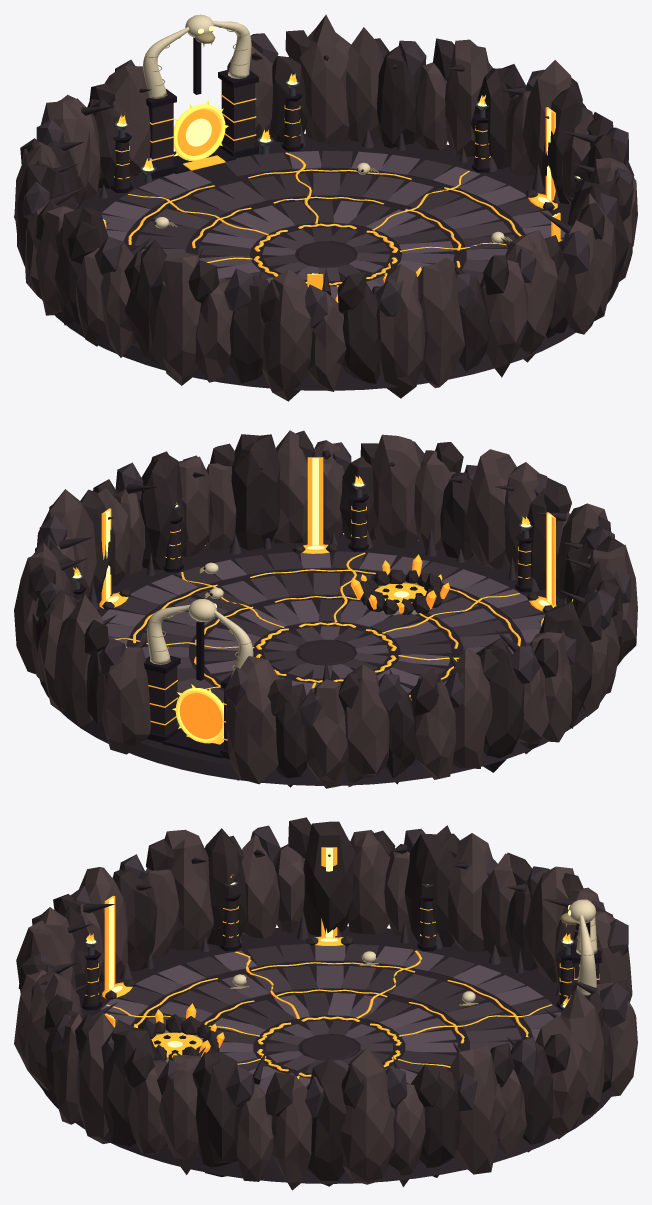
Rendered from PyroLair.glb.
The picture shows the model from 3 angles, top to bottom: view 1: azimuth 30°, elevation 25°; view 2: azimuth 150°, elevation 25°; view 3: azimuth 270°, elevation 25°; orthographic projection. The views are drawn at different scales.
Parts seen in each view (by area): view 1: Body, Floor, Magma, GlowCore, PortalRing; view 2: Body, Floor, Magma, GlowCore, PortalRing; view 3: Body, Floor, Magma, GlowCore.
Boxes of the visible parts, <box> form: Body: <box>14,14,637,401</box>; Floor: <box>42,133,618,390</box>; Magma: <box>103,94,561,302</box>; GlowCore: <box>103,26,580,274</box>; PortalRing: <box>173,100,228,160</box>; Body: <box>14,430,637,788</box>; Floor: <box>39,534,605,785</box>; Magma: <box>99,457,556,744</box>; GlowCore: <box>72,458,552,619</box>; PortalRing: <box>172,684,223,743</box>; Body: <box>14,817,637,1190</box>; Floor: <box>38,926,613,1183</box>; Magma: <box>85,847,599,1078</box>; GlowCore: <box>86,848,572,1047</box>.
Bounding box in the file's own units: 127 × 38.81 × 125.
Materials: 6 (2 with a texture image).
